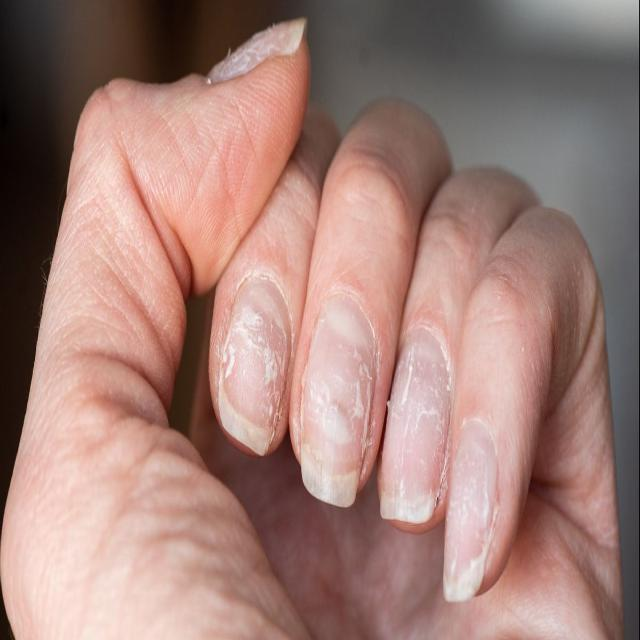Fingernail: (300, 293, 374, 507), (379, 327, 450, 523), (218, 277, 291, 454), (444, 420, 496, 602), (209, 19, 305, 81)
